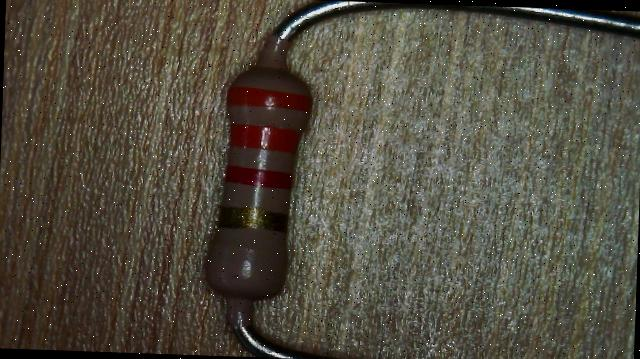gold: (214, 206, 289, 231)
orange: (227, 88, 313, 112), (228, 124, 302, 150)
red: (223, 166, 294, 188)
resistor: (169, 30, 333, 318)
